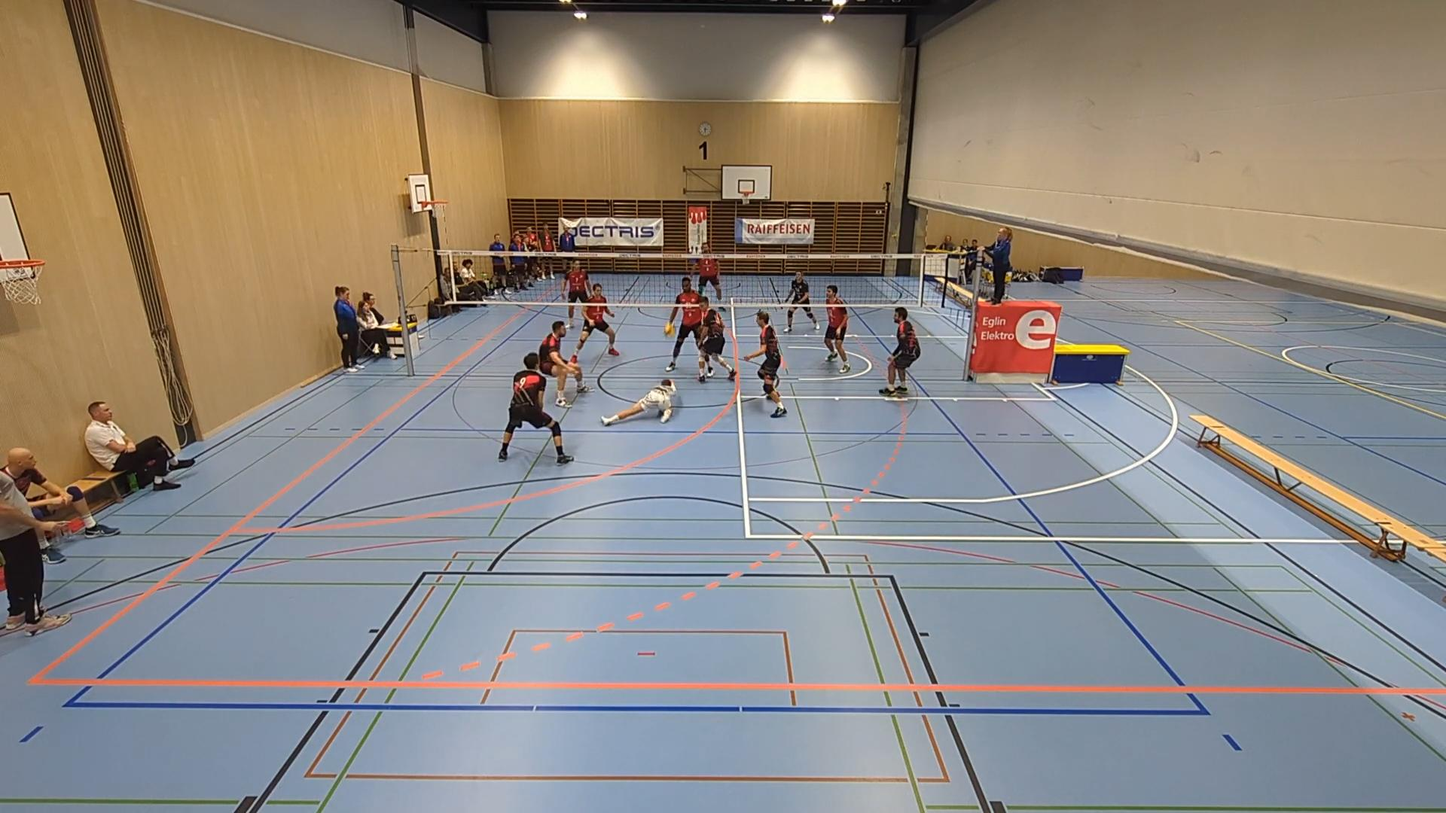Dig: (596, 378, 686, 426)
Player: (498, 353, 572, 464), (538, 320, 590, 406), (745, 310, 786, 417), (570, 284, 620, 363), (880, 307, 920, 396), (666, 276, 700, 371), (700, 297, 736, 380), (824, 285, 850, 373), (785, 269, 818, 332), (566, 260, 589, 324), (697, 256, 722, 302)
ball: (663, 320, 673, 334)
